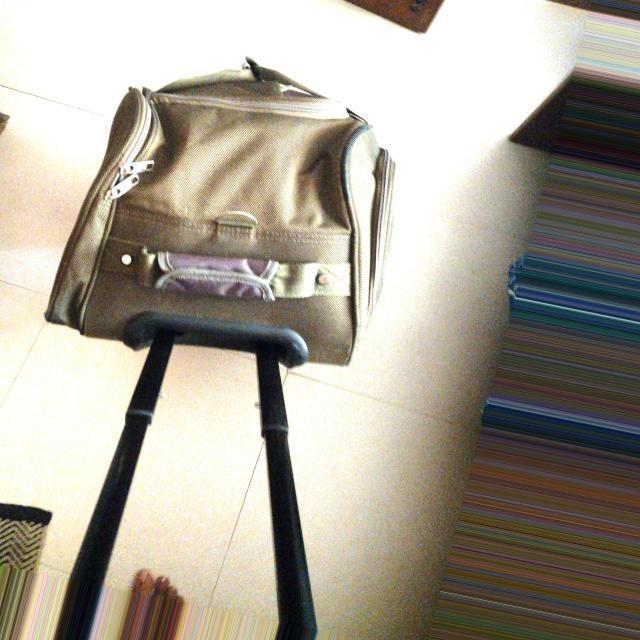Suitcase: (29, 72, 436, 640)
